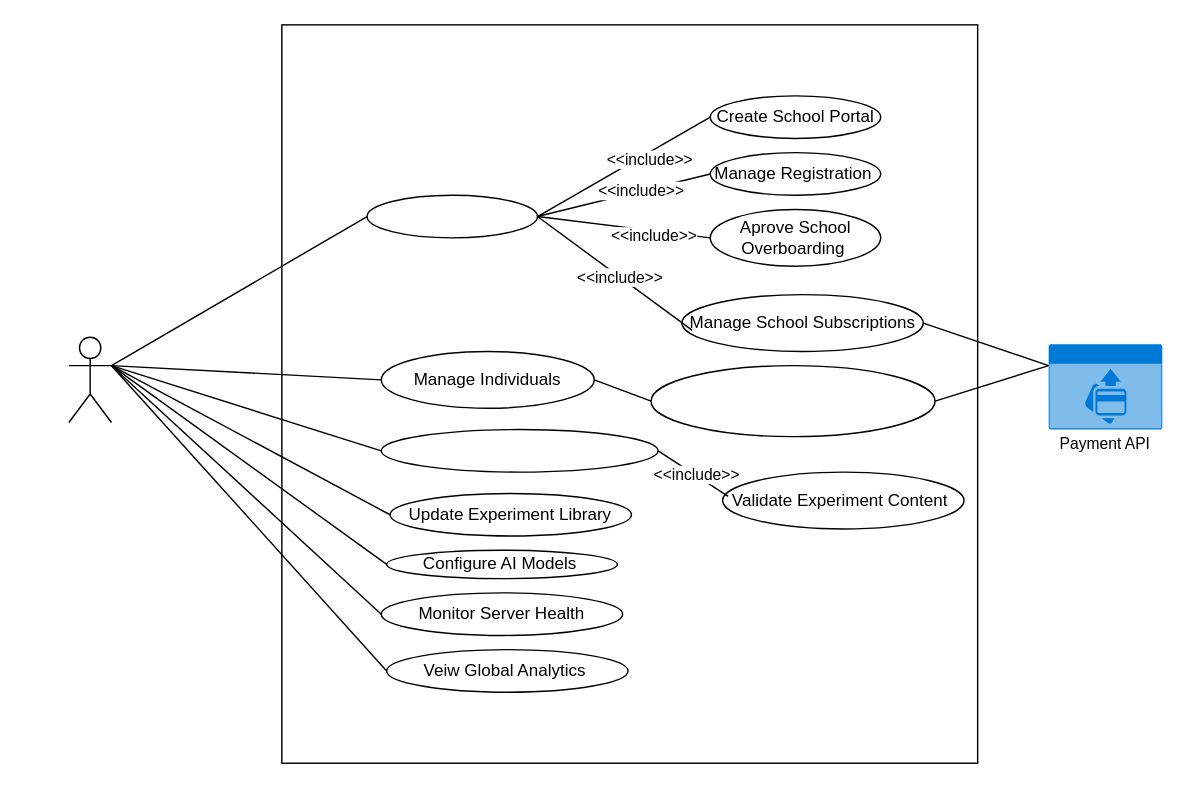
This 1187x788 diagram has some shape labels left out. Here are the shapes that lost their labels. From the top down, the centre of each, then its label:
At [451,216]: "Manage Schools".
At [89,379]: "Super Admintrator".
At [792,400]: "Manage IndividualSubscriptions".
At [519,450]: "Manage Plateform Configuration".
